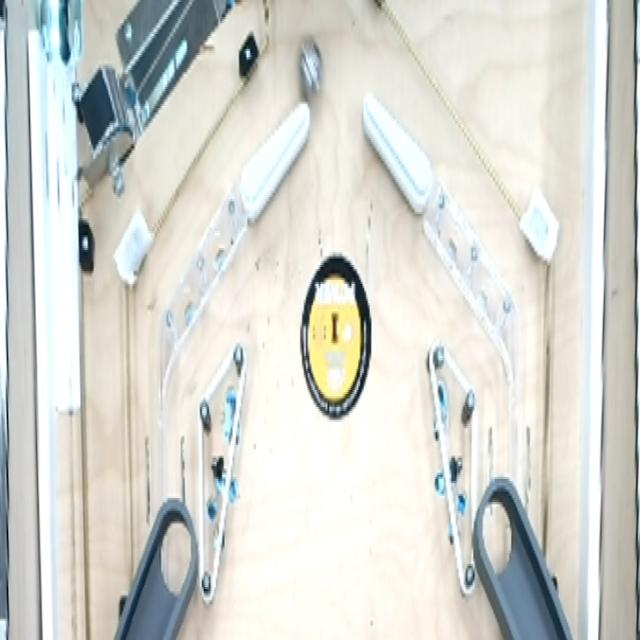ball: (294, 31, 322, 106)
flipper-left: (363, 86, 437, 226)
flipper-right: (234, 98, 314, 232)
